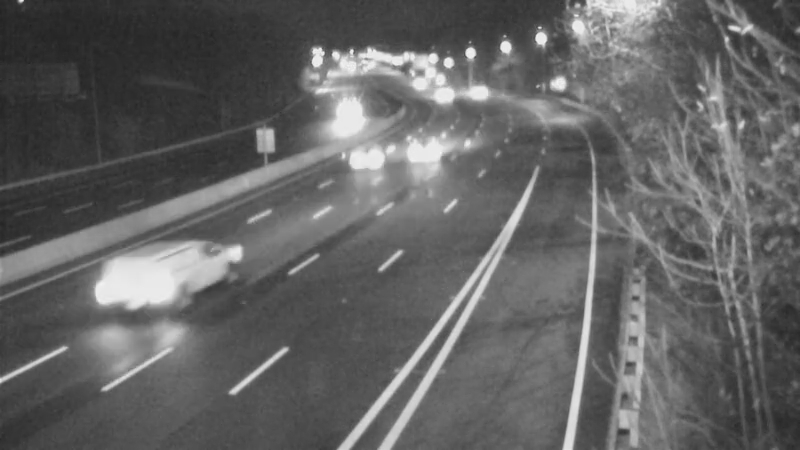vehicle: (329, 116, 409, 196), (98, 248, 178, 328), (452, 64, 502, 114), (414, 68, 464, 118), (400, 121, 450, 171), (319, 88, 369, 138)
